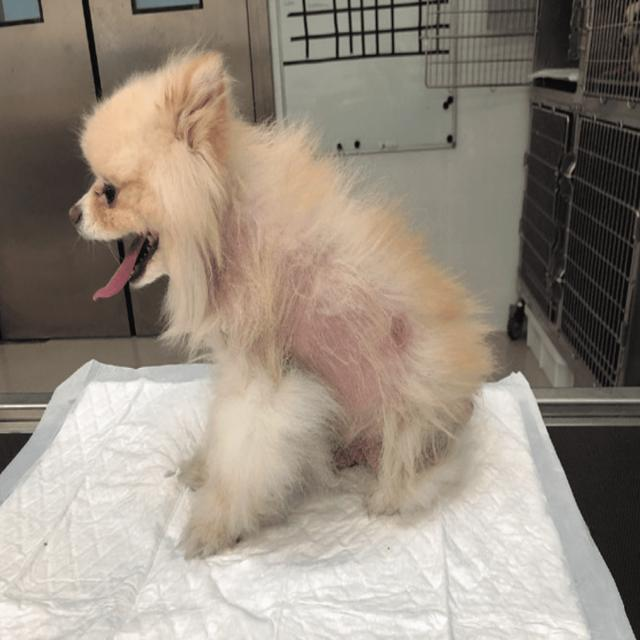cat-hairloss: (232, 227, 401, 449)
